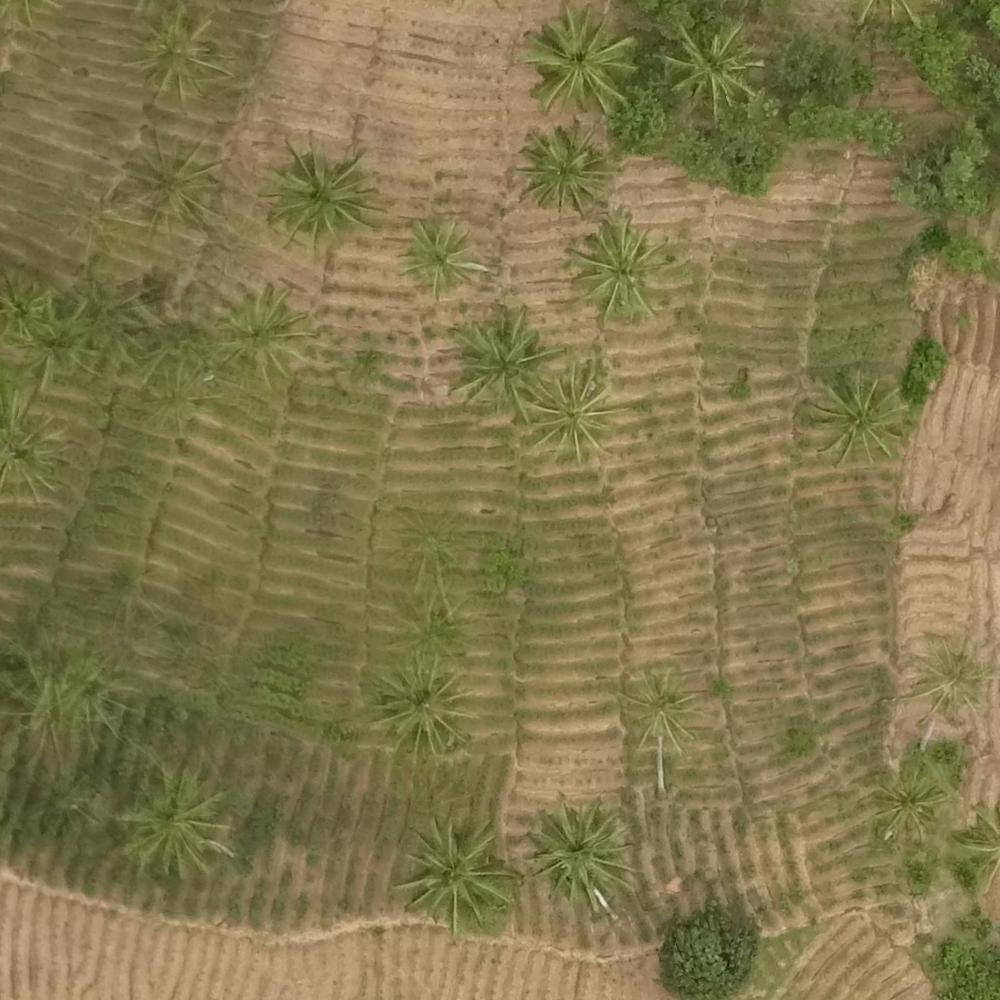Palm: (520, 4, 636, 111), (118, 132, 228, 243), (404, 815, 514, 924), (118, 769, 230, 876), (530, 796, 633, 909), (563, 218, 665, 326), (448, 310, 553, 411), (269, 139, 372, 241), (126, 11, 231, 106), (659, 15, 760, 113), (374, 657, 470, 760), (520, 361, 616, 460), (803, 366, 903, 460), (895, 630, 991, 726), (222, 286, 312, 380), (614, 665, 708, 751), (516, 122, 610, 207), (868, 764, 950, 843), (399, 218, 478, 293)
